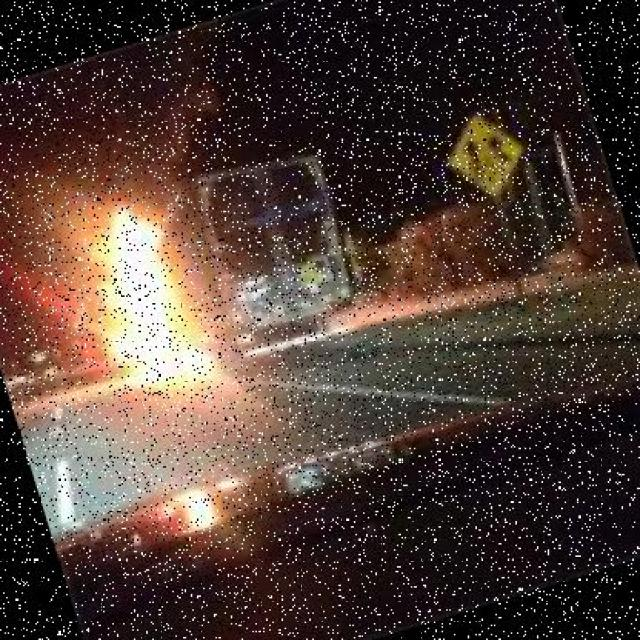fire: (49, 169, 274, 403)
